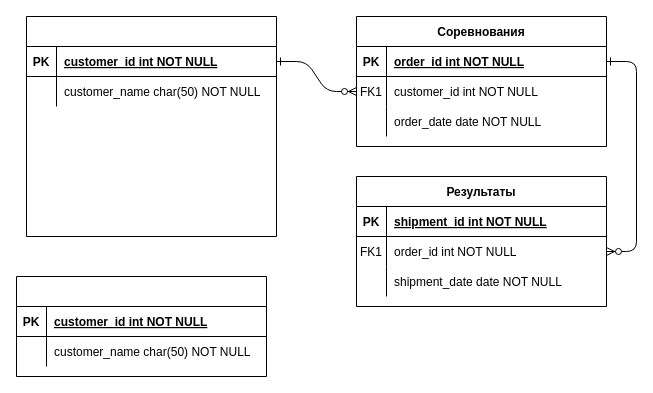
This 653x393 diagram has some shape labels left out. Each missing label, with the box of its shape:
Список призеров: (16, 276, 266, 376)
Спортсмены: (26, 16, 276, 236)
